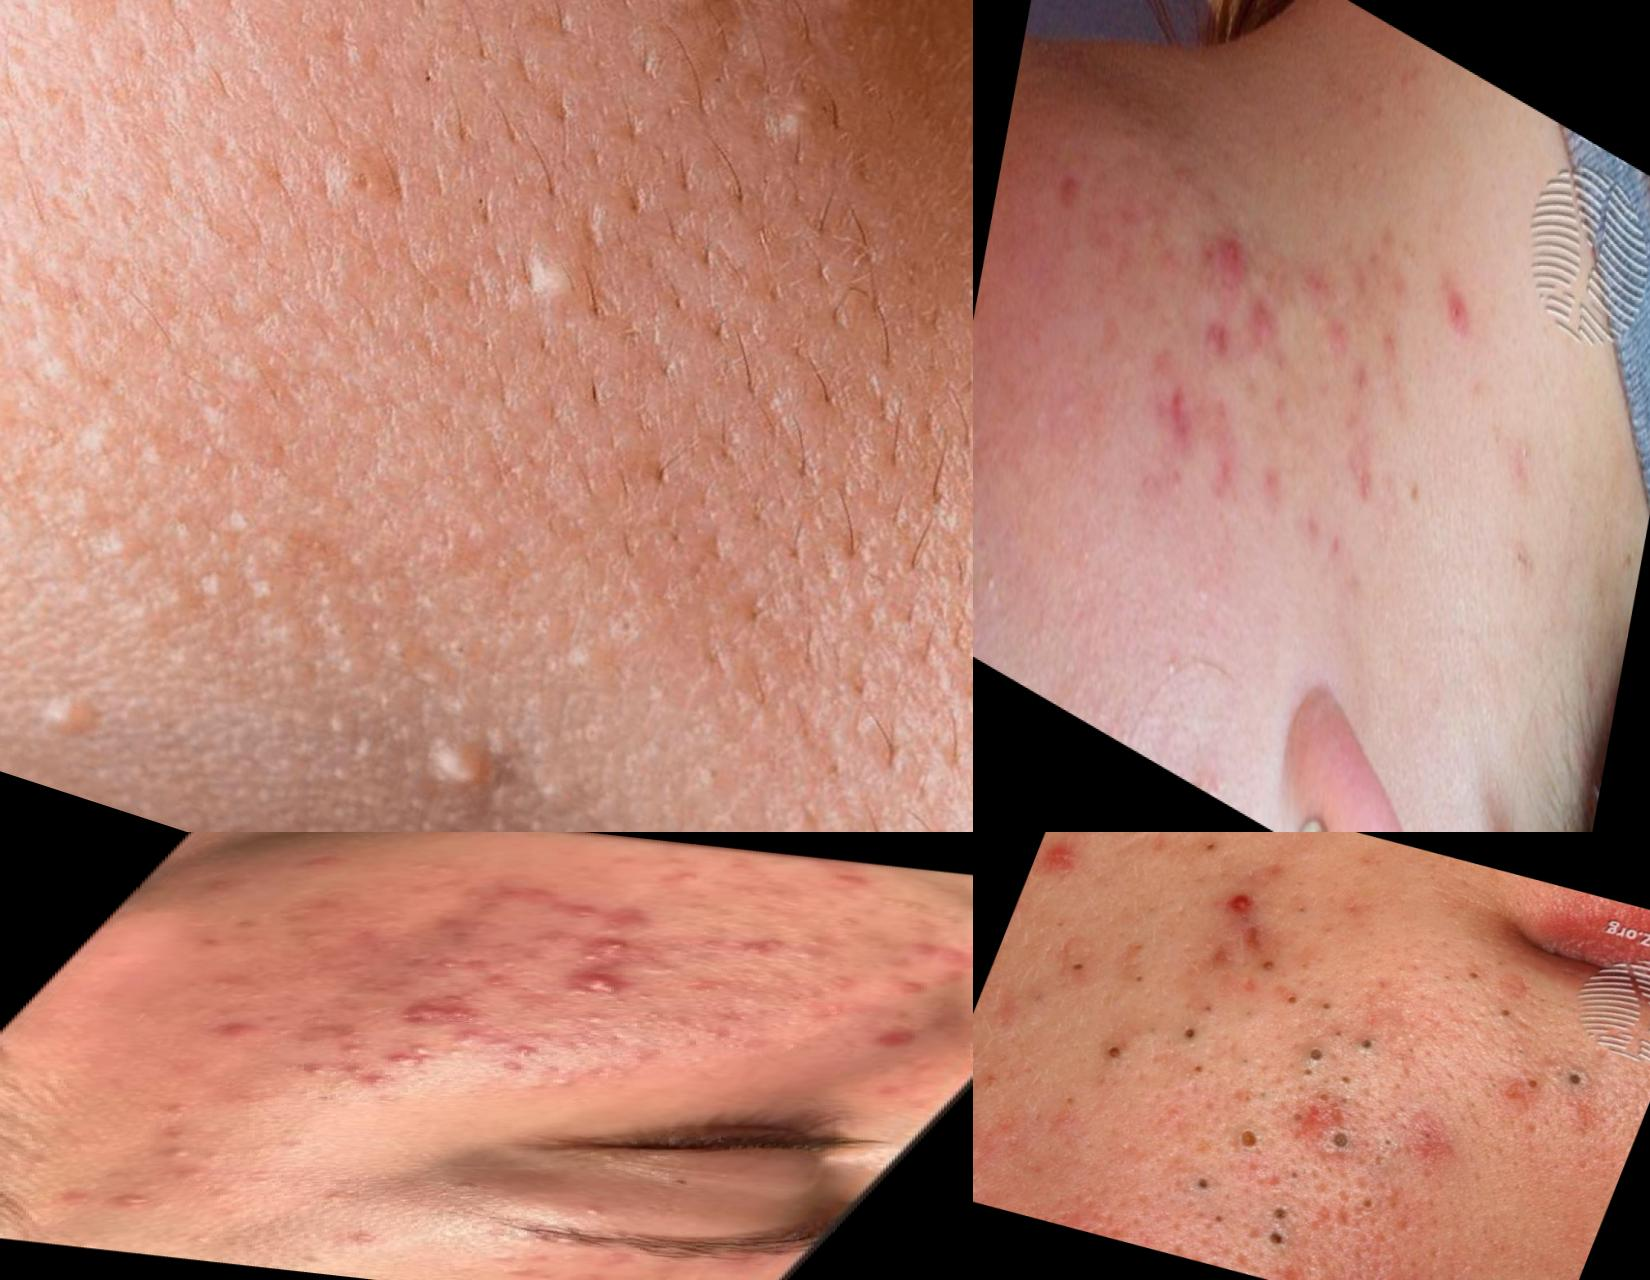blackhead: (1294, 1010, 1390, 1086), (1491, 513, 1546, 603), (1252, 977, 1346, 1022), (1158, 1154, 1228, 1204), (1240, 1200, 1302, 1255), (1507, 418, 1547, 491), (1317, 1117, 1381, 1161), (1096, 1024, 1153, 1072), (1542, 1058, 1604, 1097), (1479, 399, 1511, 471), (1171, 1011, 1212, 1058), (1501, 1064, 1546, 1107), (1183, 833, 1242, 865), (1114, 964, 1165, 999), (1229, 1114, 1272, 1151), (1058, 947, 1100, 983), (1481, 993, 1513, 1027), (1454, 957, 1488, 989)
flat_wart: (354, 628, 603, 833), (1, 594, 161, 783)
papular: (1149, 364, 1205, 461), (562, 905, 678, 944), (1434, 264, 1483, 355), (1033, 833, 1093, 898), (1047, 157, 1094, 237), (1242, 287, 1288, 366), (1193, 308, 1237, 390), (1207, 877, 1272, 931), (1211, 218, 1254, 293), (842, 1022, 935, 1054), (717, 933, 809, 965), (1321, 312, 1355, 371), (304, 1023, 384, 1048), (187, 1018, 269, 1040), (916, 939, 974, 968), (877, 937, 950, 960), (408, 955, 482, 976), (875, 977, 942, 1000), (818, 870, 881, 892), (550, 902, 612, 923), (469, 973, 524, 993)
purulent: (74, 1186, 181, 1218), (375, 1038, 465, 1074), (576, 932, 663, 961), (553, 948, 621, 968), (479, 1056, 544, 1076), (496, 1040, 556, 1060), (346, 1074, 404, 1093), (333, 1062, 382, 1079), (327, 1040, 374, 1056), (292, 1063, 337, 1079)
sebo-crystan-conglo: (355, 993, 487, 1032), (534, 969, 655, 1002)
whitehead: (451, 191, 607, 370), (745, 46, 857, 189), (117, 1139, 253, 1186), (759, 927, 854, 973), (462, 1244, 575, 1280), (621, 1, 742, 33), (558, 1194, 658, 1229), (309, 1224, 400, 1257), (554, 1007, 632, 1032), (435, 1023, 512, 1048), (868, 894, 944, 914), (647, 1012, 710, 1034), (621, 1007, 674, 1028), (192, 877, 244, 897), (654, 872, 712, 889), (921, 910, 974, 929), (825, 914, 868, 931), (676, 900, 719, 914)
